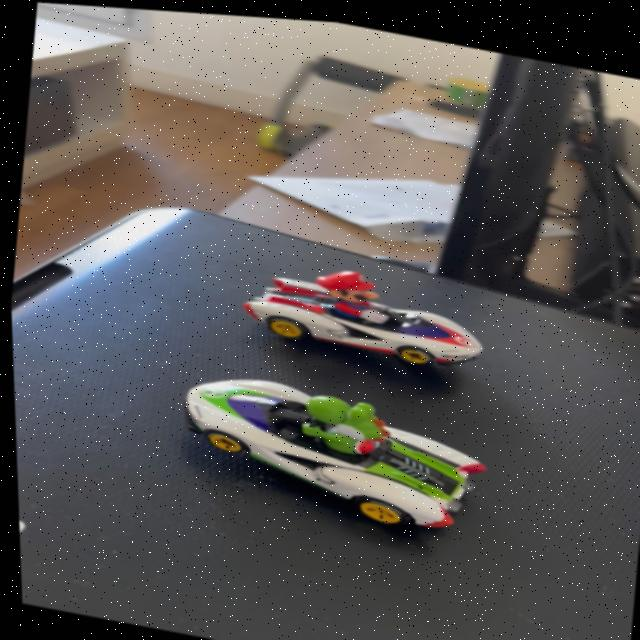mario: (244, 250, 505, 378)
yoshi: (159, 346, 515, 539)
